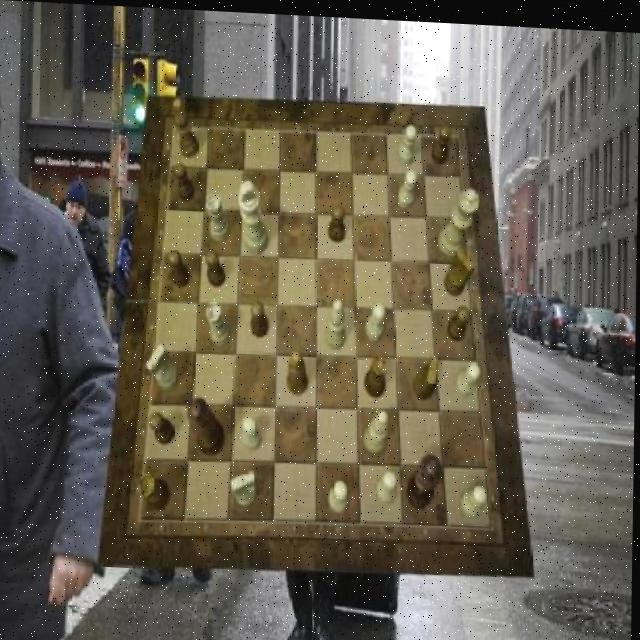bishop: (174, 96, 200, 157), (288, 347, 311, 391)
black-bishop: (408, 449, 444, 507)
black-king: (444, 241, 475, 291), (414, 351, 441, 396)
black-knight: (169, 249, 192, 287), (449, 300, 472, 337), (152, 411, 177, 445), (432, 121, 452, 161), (175, 161, 195, 199), (206, 249, 226, 285), (251, 297, 269, 335), (330, 200, 347, 238)
black-pawn: (189, 396, 227, 456)
black-queen: (140, 471, 172, 509), (365, 350, 388, 394)
black-rook: (327, 295, 348, 347), (366, 406, 391, 449)
white-bishop: (239, 177, 271, 253)
white-king: (147, 341, 180, 388), (233, 468, 259, 505)
white-knight: (462, 479, 489, 514), (456, 355, 482, 391), (398, 120, 418, 162), (398, 164, 418, 205), (367, 298, 388, 337), (377, 466, 399, 501), (331, 475, 352, 510), (244, 413, 264, 449)
white-pawn: (440, 183, 481, 253)
white-queen: (207, 192, 232, 240), (208, 299, 233, 344)
